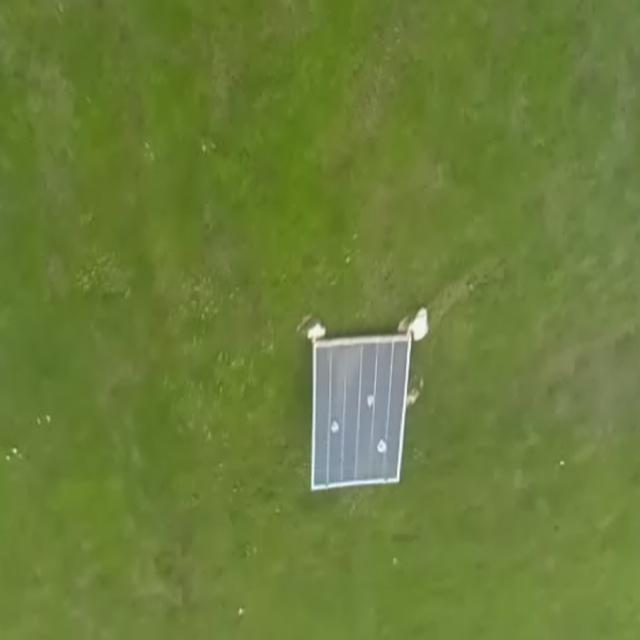Bird-drop: (361, 389, 378, 411), (374, 436, 389, 456), (329, 417, 340, 438)
